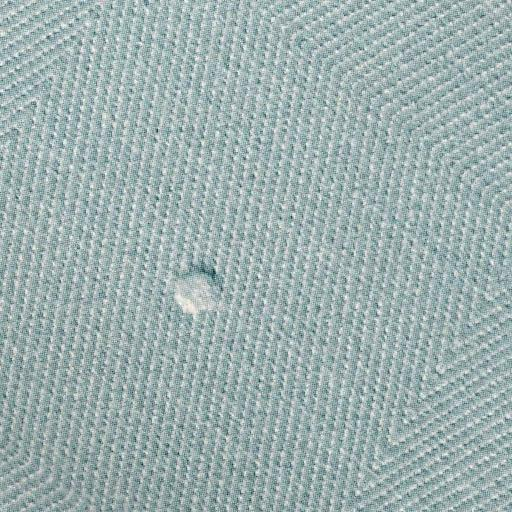knot: (167, 257, 239, 323)
